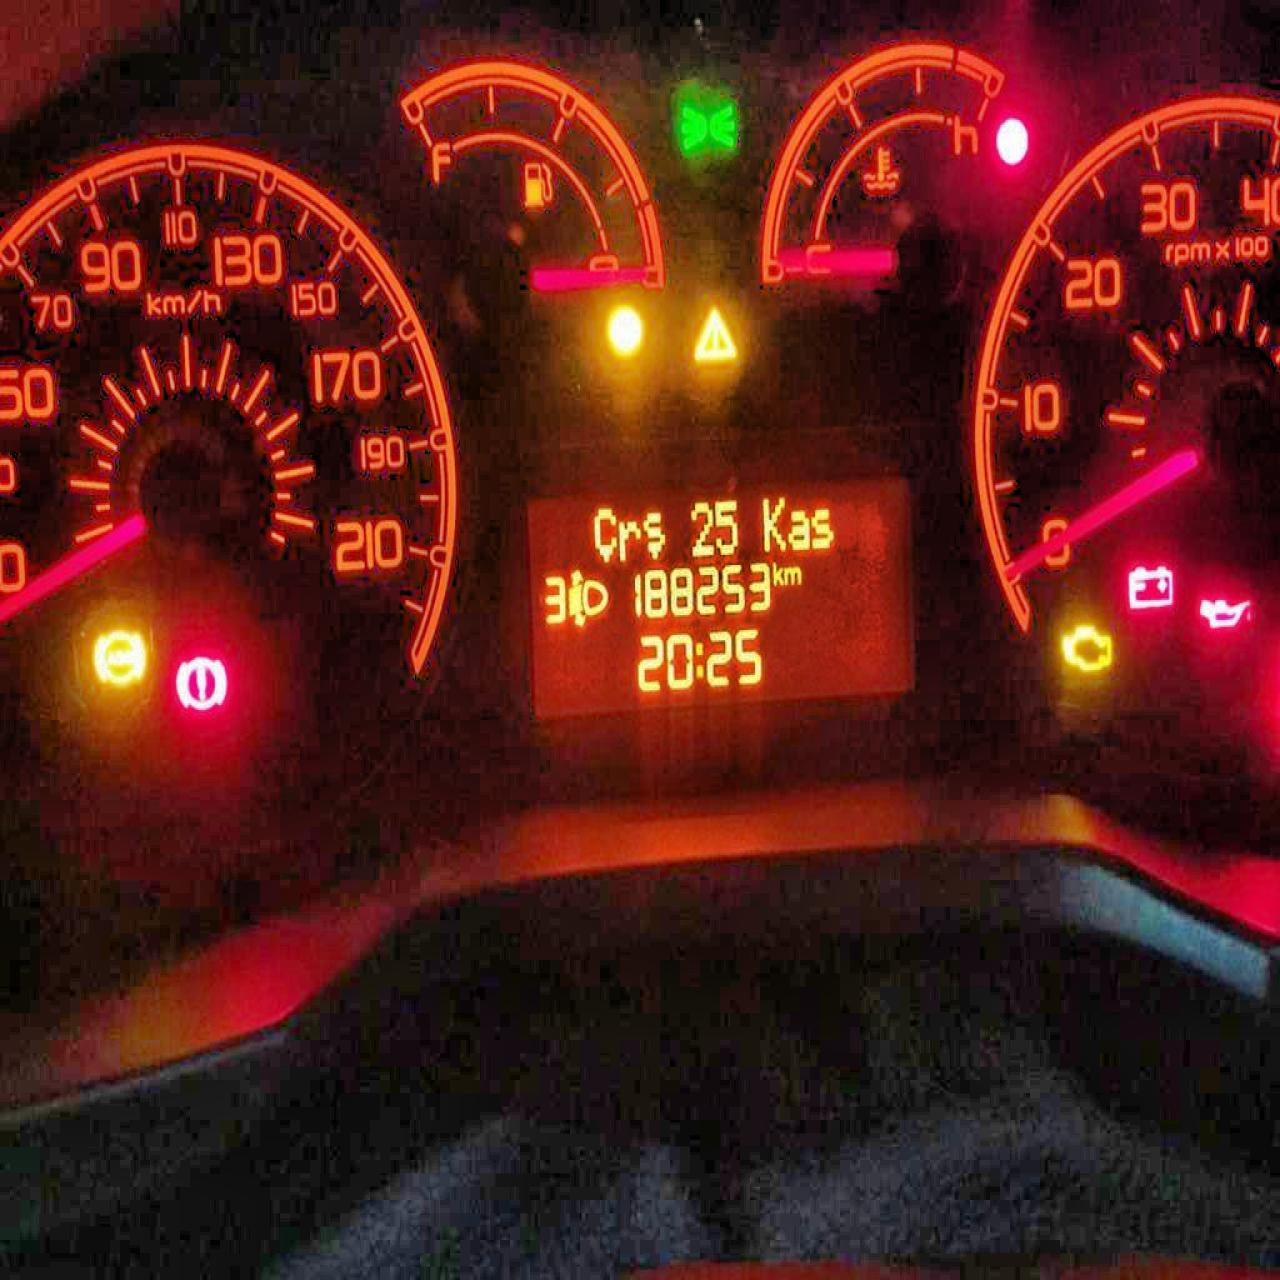0: (666, 632, 693, 690)
1: (633, 572, 641, 617)
2: (703, 631, 731, 687), (635, 633, 662, 692), (688, 501, 713, 557), (694, 564, 717, 613)
3: (745, 561, 770, 612), (542, 574, 565, 624)
5: (734, 627, 761, 686), (719, 561, 745, 612), (714, 498, 737, 554)
8: (668, 565, 693, 615), (642, 568, 667, 617)
X: (760, 496, 785, 552), (592, 505, 617, 564), (641, 510, 665, 558), (809, 506, 833, 549), (618, 518, 641, 561), (787, 509, 809, 550), (783, 565, 802, 585), (694, 640, 702, 676), (771, 560, 783, 585)
odometer: (522, 474, 917, 720)
